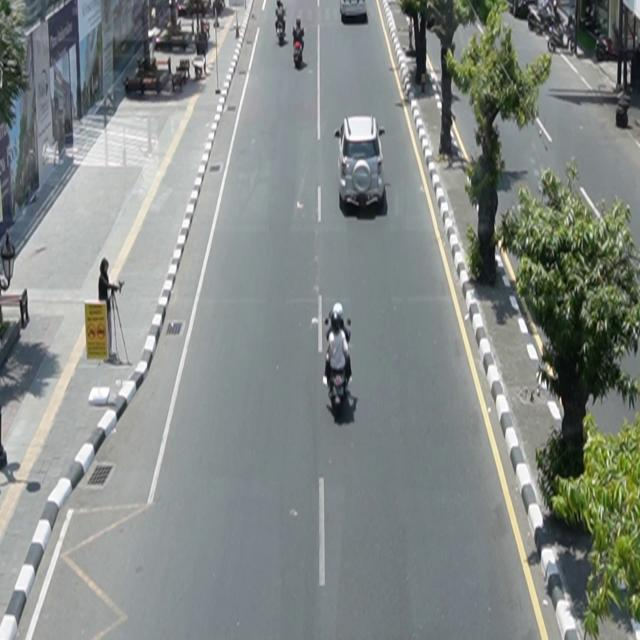car: (335, 115, 387, 211), (341, 1, 369, 20)
